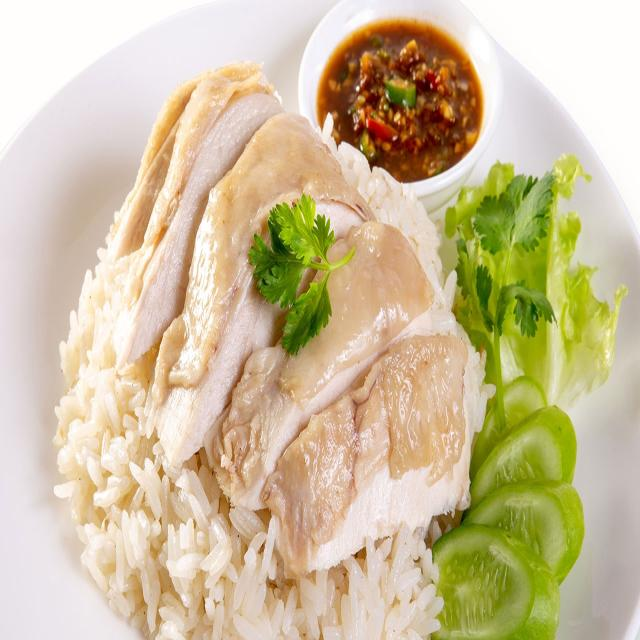Carbohydrate: (53, 121, 485, 640)
Kaow-Mankai: (2, 2, 639, 640)
Protein: (112, 58, 484, 582)
Vegetable: (432, 156, 627, 640)
